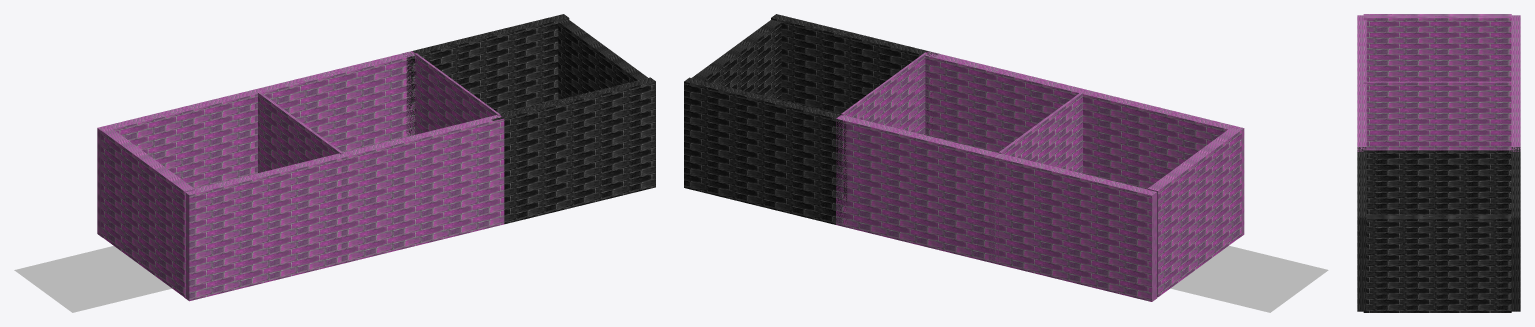
3 views of the same model, side by side, from view 1: azimuth 30°, elevation 25°; view 2: azimuth 150°, elevation 25°; view 3: azimuth 270°, elevation 25° (orthographic). The views are drawn at different scales.
Visible parts, largest first — view 1: Cube.001, Cube.003, Cube.008, Cube.004, Cube, Cube.007, Cube.002, Plane, Cube.009, Cube.006, Cube.005; view 2: Cube.002, Cube.004, Cube.007, Cube.001, Cube, Cube.003, Cube.008, Plane, Cube.009, Cube.006, Cube.005; view 3: Cube.009, Cube.005, Cube, Cube.006, Cube.007, Cube.008, Cube.002, Cube.003, Cube.001, Cube.004.
Part boxes in pixels (box(x1,y1,x2,y2)): Cube.001: box(341, 115, 504, 263); Cube.003: box(184, 151, 350, 301); Cube.008: box(491, 77, 655, 224); Cube.004: box(253, 51, 415, 173); Cube: box(101, 128, 194, 297); Cube.007: box(402, 14, 569, 135); Cube.002: box(97, 88, 265, 236); Plane: box(14, 246, 171, 312); Cube.009: box(558, 19, 647, 99); Cube.006: box(414, 53, 500, 134); Cube.005: box(257, 92, 343, 172); Cube.002: box(989, 152, 1157, 301); Cube.004: box(836, 115, 1004, 264); Cube.007: box(684, 77, 847, 224); Cube.001: box(925, 51, 1090, 173); Cube: box(1147, 127, 1241, 297); Cube.003: box(1075, 91, 1244, 237); Cube.008: box(771, 14, 938, 135); Plane: box(1170, 245, 1328, 312); Cube.009: box(692, 19, 781, 99); Cube.006: box(841, 52, 927, 134); Cube.005: box(998, 91, 1084, 173); Cube.009: box(1363, 214, 1511, 312); Cube.005: box(1363, 81, 1511, 149); Cube: box(1363, 14, 1511, 81); Cube.006: box(1363, 149, 1512, 214); Cube.007: box(1511, 147, 1520, 311); Cube.008: box(1357, 147, 1366, 311); Cube.002: box(1511, 15, 1520, 85); Cube.003: box(1357, 15, 1366, 85); Cube.001: box(1357, 86, 1366, 151); Cube.004: box(1511, 86, 1520, 151).
Size of the model in its own units: 11.2 by 2.06 by 3.15.
Materials: 14 (14 with a texture image).
